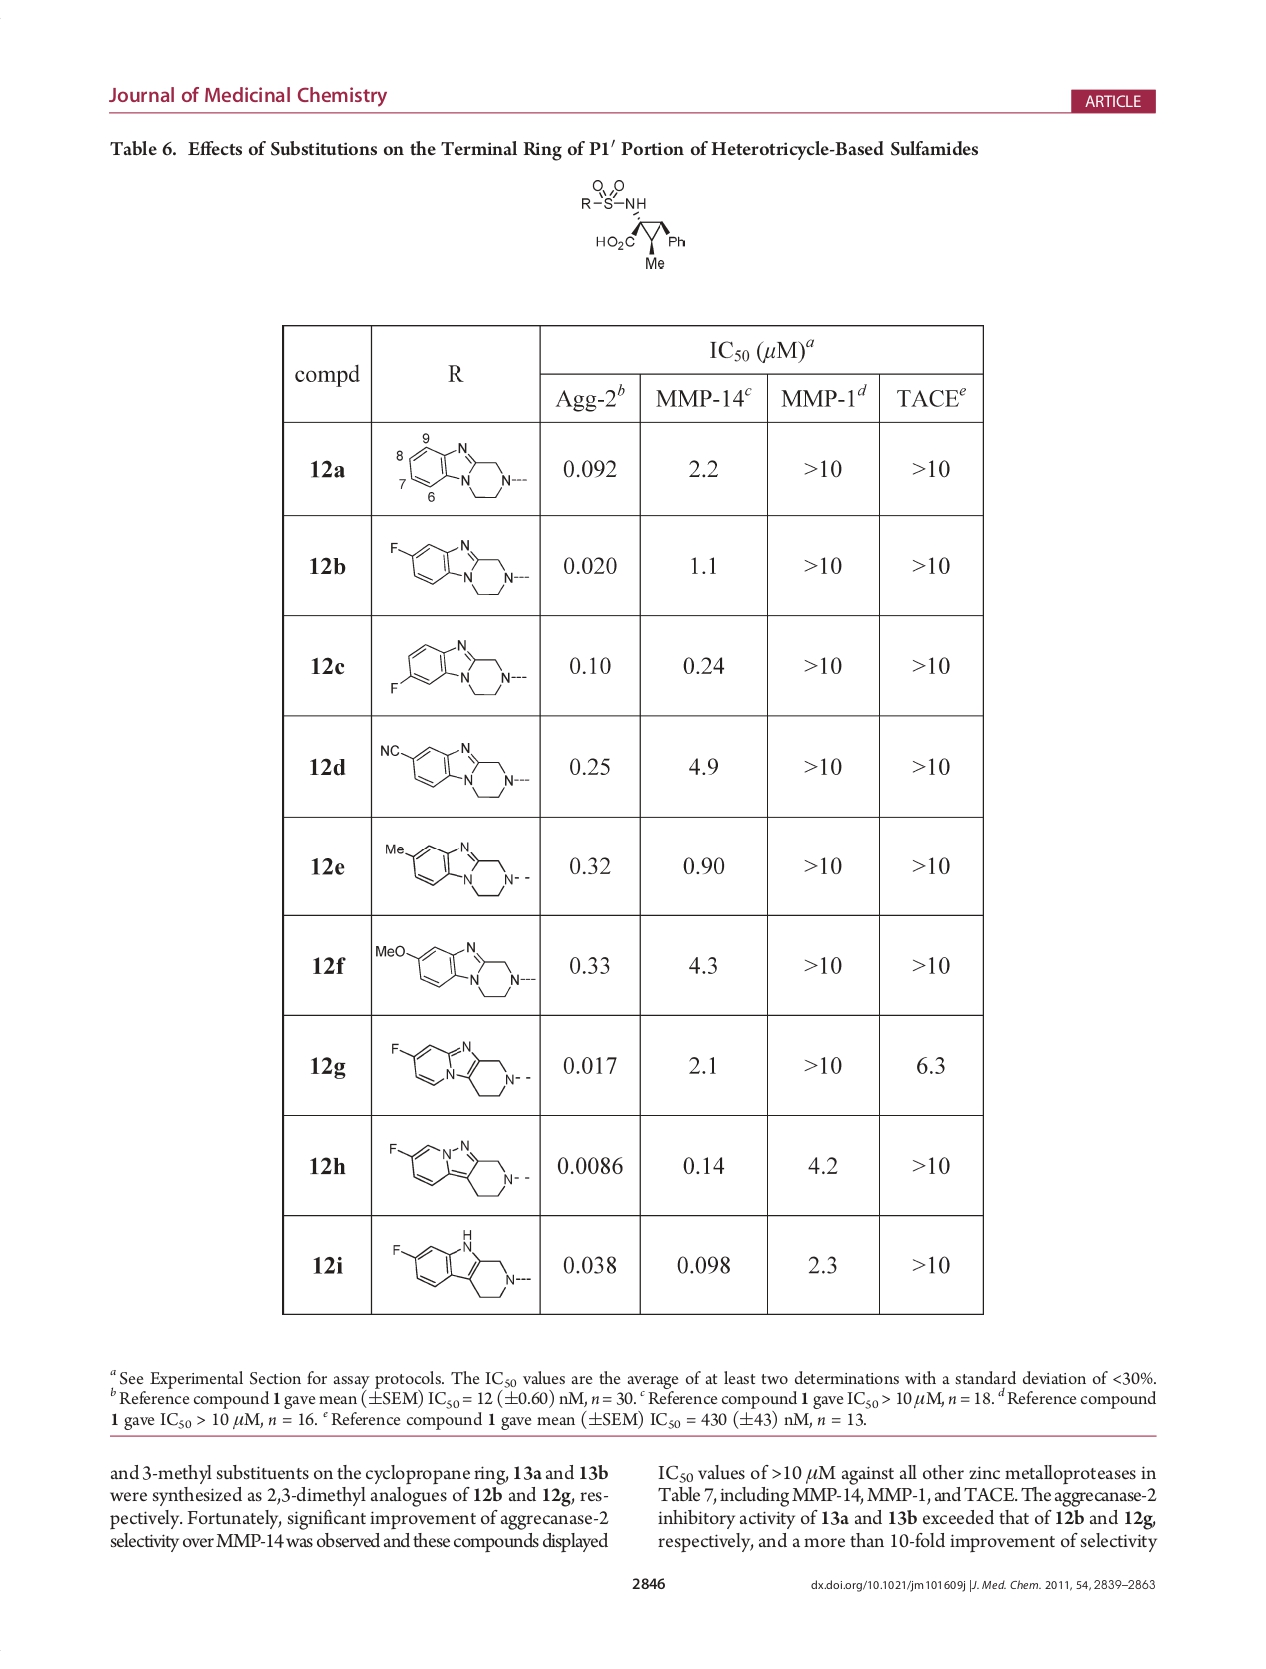exist_molecular: (390, 1225, 535, 1306), (578, 177, 688, 274), (384, 1134, 535, 1204), (386, 533, 532, 602), (382, 835, 533, 902), (386, 1035, 533, 1102), (372, 940, 536, 1001), (378, 738, 533, 802), (388, 634, 532, 702), (407, 442, 531, 503)
